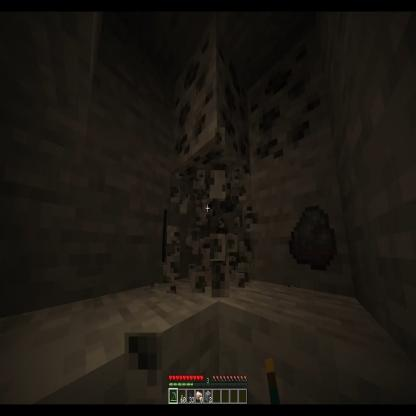coal ore: (174, 36, 247, 194), (247, 36, 328, 175)
